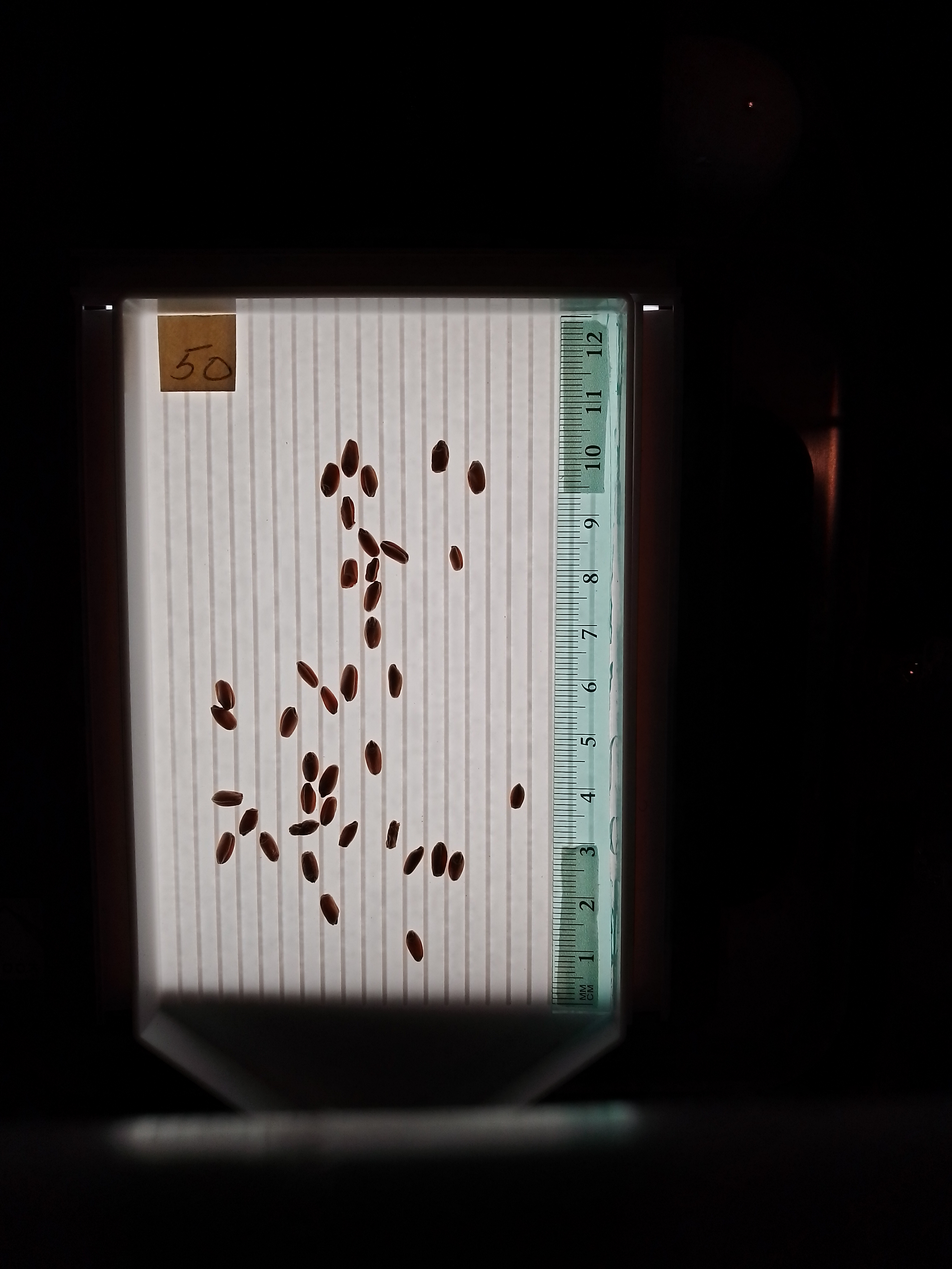seed mask: (381, 540, 408, 564), (340, 665, 358, 701), (321, 463, 340, 496), (211, 706, 237, 730), (319, 765, 339, 796), (320, 894, 340, 925), (360, 465, 379, 497), (342, 440, 358, 477), (279, 707, 298, 738), (216, 833, 235, 864), (358, 529, 379, 557), (215, 680, 235, 709), (364, 581, 382, 613), (364, 617, 382, 649), (260, 832, 279, 862), (432, 441, 449, 473), (365, 742, 382, 774), (340, 559, 358, 589), (301, 852, 319, 882), (406, 931, 424, 961), (468, 463, 485, 494), (339, 821, 358, 848), (432, 843, 447, 876), (404, 848, 423, 874), (239, 809, 258, 835), (298, 662, 318, 686), (320, 797, 337, 825), (290, 819, 318, 836), (448, 852, 464, 881), (213, 791, 242, 807), (341, 496, 355, 529), (302, 753, 319, 780), (321, 687, 338, 713), (301, 784, 316, 813), (388, 666, 402, 697), (510, 784, 525, 809), (387, 822, 400, 849), (449, 546, 463, 571), (365, 560, 380, 582)
